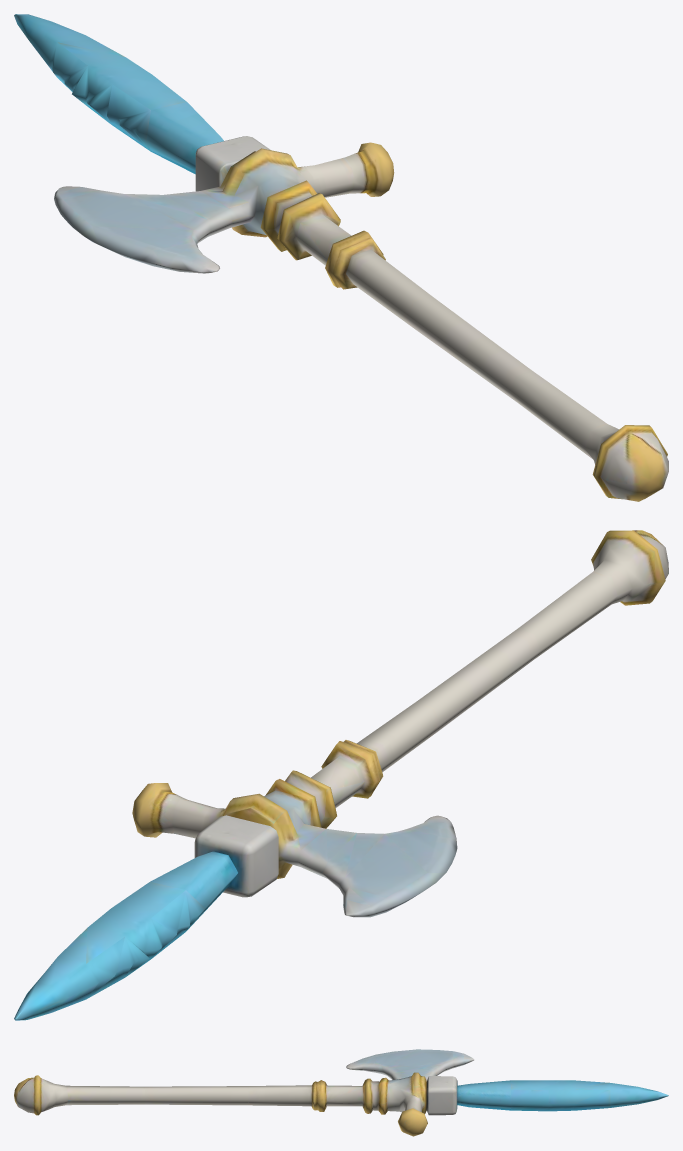
Rendered from f_halberd.fbx.
3 renders of one model, top to bottom at view 1: azimuth 30°, elevation 25°; view 2: azimuth 150°, elevation 25°; view 3: azimuth 270°, elevation 25°, orthographic. The views are drawn at different scales.
Visible parts, largest first — view 1: tripo_node_2d3704f4-c55d-4b83-8595-65aeba117999; view 2: tripo_node_2d3704f4-c55d-4b83-8595-65aeba117999; view 3: tripo_node_2d3704f4-c55d-4b83-8595-65aeba117999.
Boxes of the visible parts, bbox=[...] form: tripo_node_2d3704f4-c55d-4b83-8595-65aeba117999: bbox=[14, 14, 668, 501]; tripo_node_2d3704f4-c55d-4b83-8595-65aeba117999: bbox=[14, 530, 668, 1020]; tripo_node_2d3704f4-c55d-4b83-8595-65aeba117999: bbox=[14, 1049, 668, 1136].
Bounding box in the file's own units: 0.6394 × 0.1744 × 2.33.
1 material, 1 textured.
